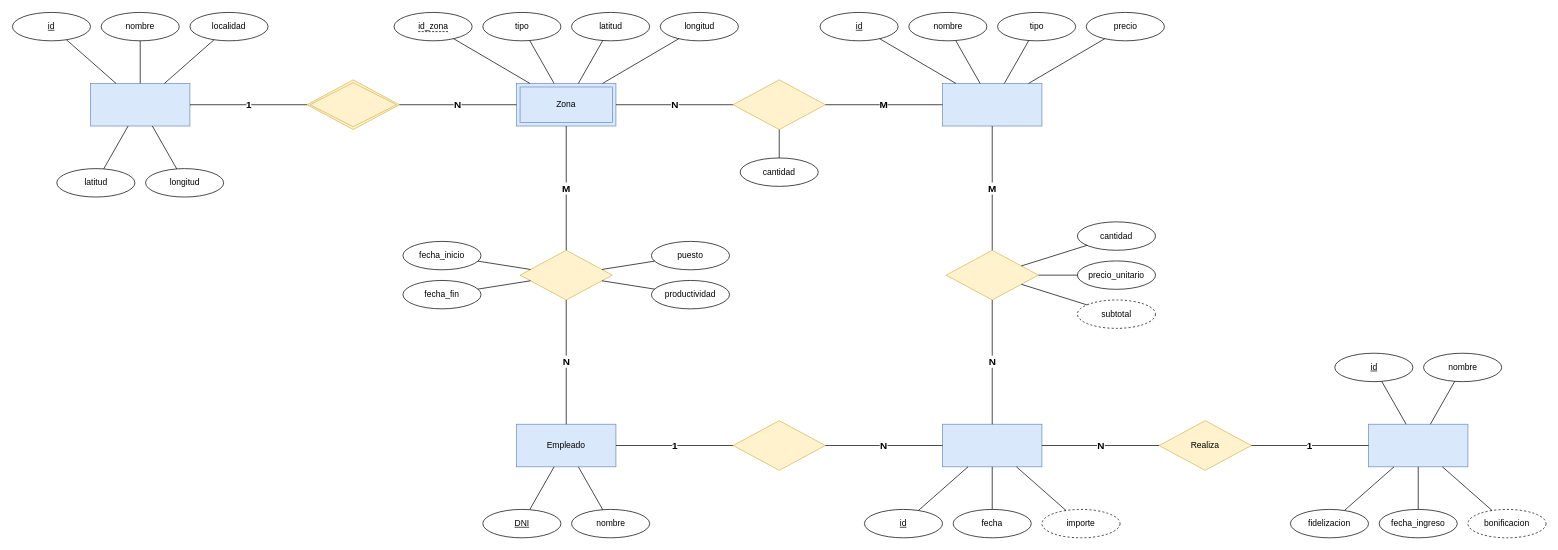
This 1558x550 diagram has some shape labels left out. Here are the shapes that lost their labels. From the top down, the box of each, then its label:
(90, 83, 190, 126): Vivero
(306, 79, 399, 130): Tiene
(732, 79, 825, 130): Almacena
(942, 83, 1042, 126): Producto
(519, 250, 612, 300): Trabaja_en
(945, 250, 1038, 300): Contiene
(732, 420, 825, 470): Gestiona
(942, 424, 1042, 467): Pedido
(1368, 424, 1468, 467): Cliente
